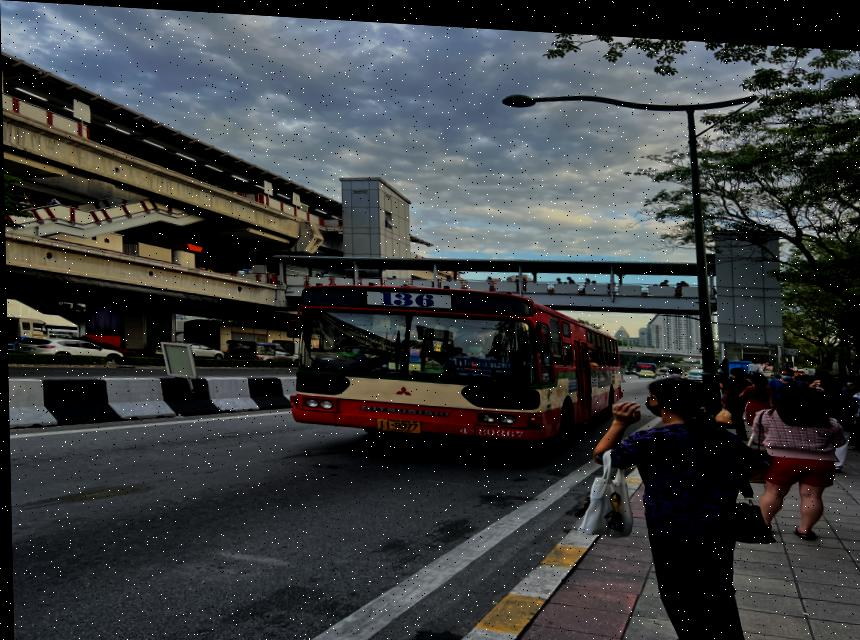BMTA-bus: (287, 281, 619, 442)
Bus Line Number: (365, 283, 454, 304)
Bus Side Number: (453, 418, 526, 435)
Destination Sign: (446, 351, 513, 371)
